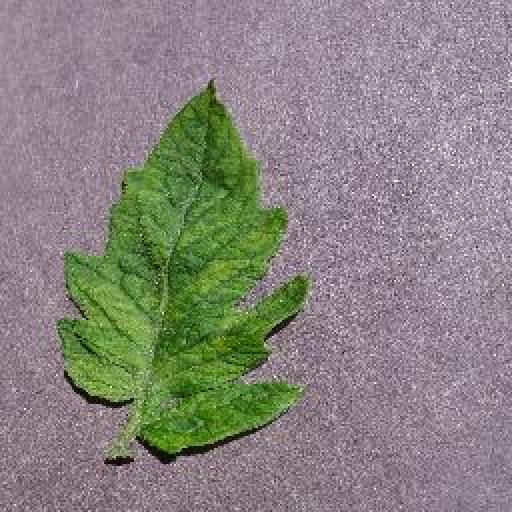Mosaic Virus: (52, 75, 313, 460)
